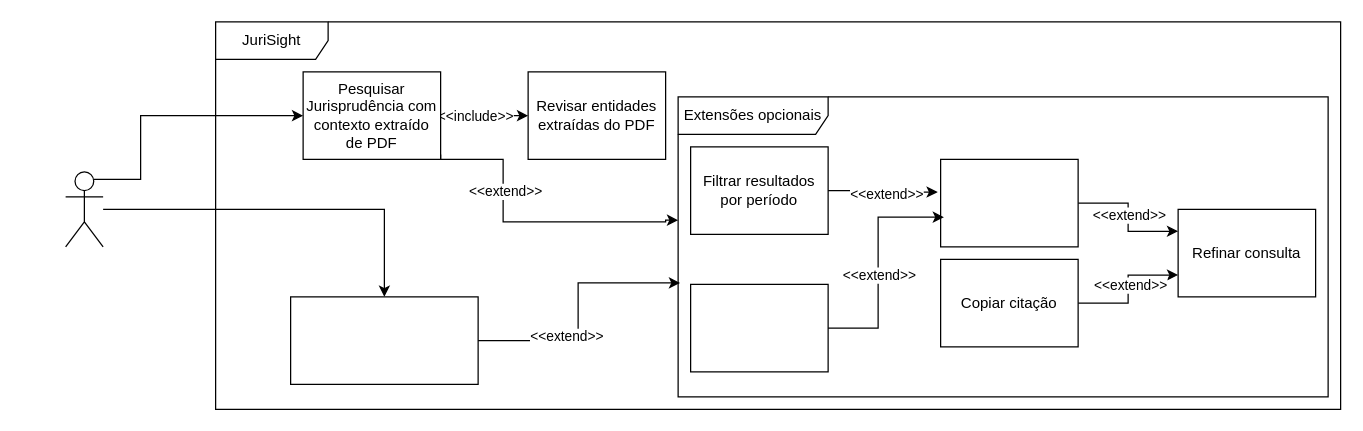
This 1363x431 diagram has some shape labels left out. The shapes that lost their labels are listed below. From the top down, each one's centre as x and y in pixels, then its label:
At point 83,209: "Advogado/ Assistente Jurídico".
At point 1008,202: "Visualizar detalhes de um documento".
At point 383,340: "Pesquisar Jurisprudência por intenção argumentativa e entidades (sem PDF)".
At point 758,327: "Filtrar resultados por provimento".
